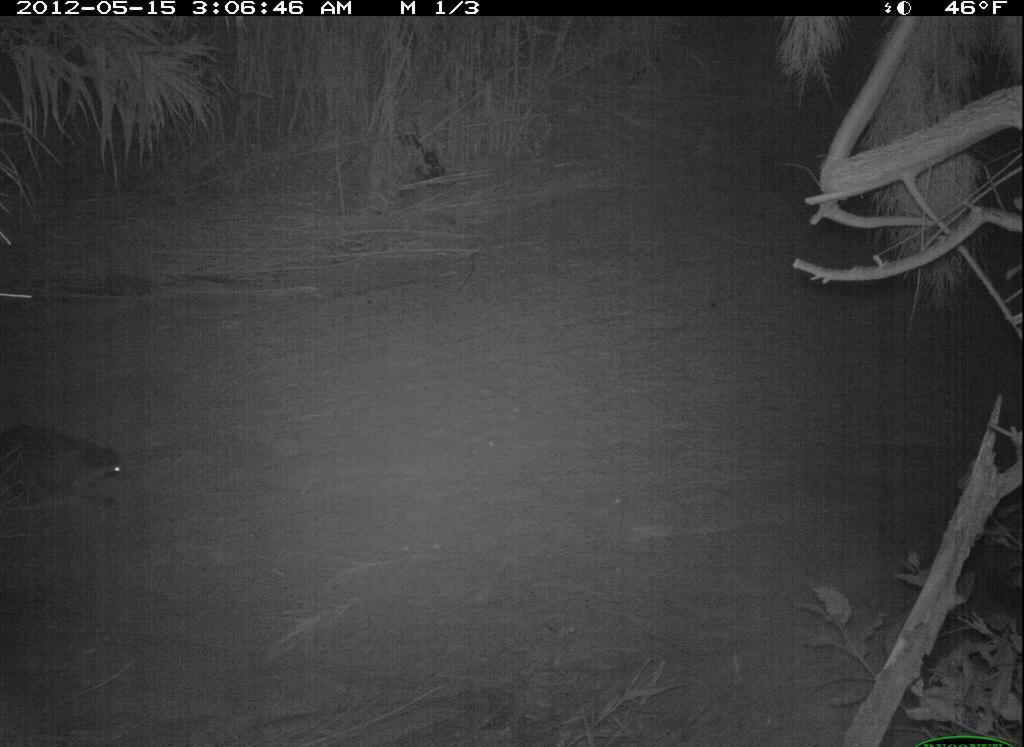raccoon: (2, 420, 127, 523)
